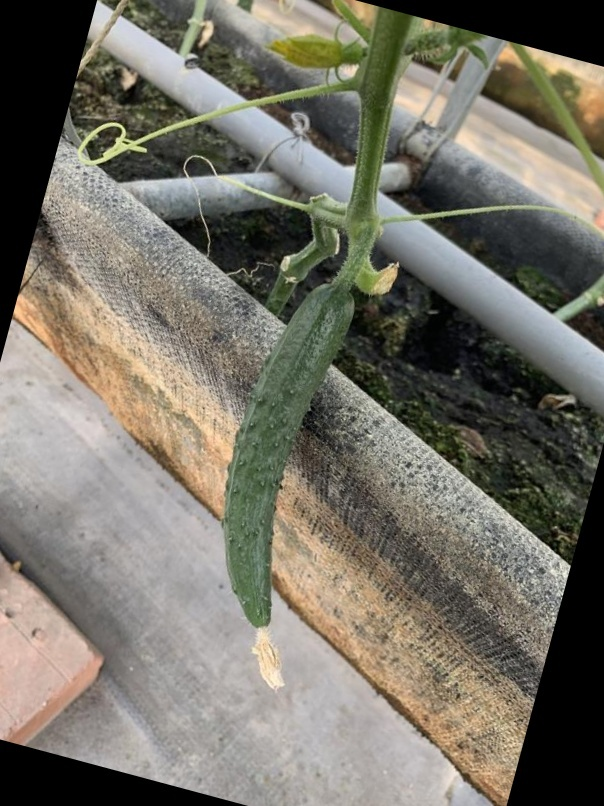growth: (205, 279, 359, 700)
mature: (206, 273, 361, 686)
